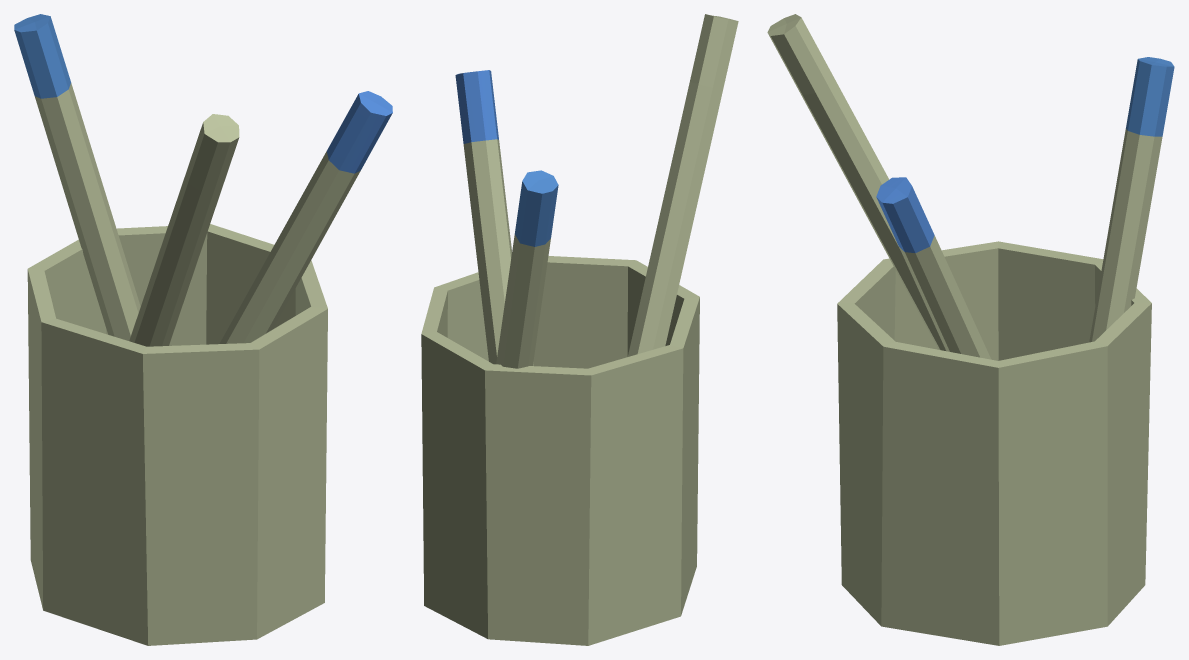
File: Bedroom3_Pensils.fbx
The picture shows the model from 3 angles, left to right: view 1: azimuth 30°, elevation 25°; view 2: azimuth 150°, elevation 25°; view 3: azimuth 270°, elevation 25°; orthographic projection. The views are drawn at different scales.
Visible parts, largest first — view 1: Bedroom3_Pensils; view 2: Bedroom3_Pensils; view 3: Bedroom3_Pensils.
Boxes of the visible parts, x1=… form: Bedroom3_Pensils: x1=14, y1=14, x2=392, y2=645; Bedroom3_Pensils: x1=421, y1=14, x2=738, y2=645; Bedroom3_Pensils: x1=767, y1=14, x2=1174, y2=645.
Size of the model in its own units: 17.13 by 31.01 by 21.1.
